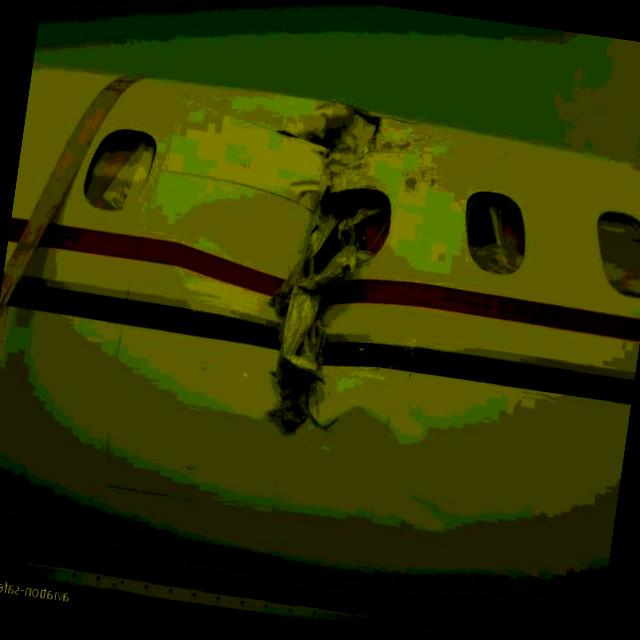crack: (232, 92, 393, 446)
